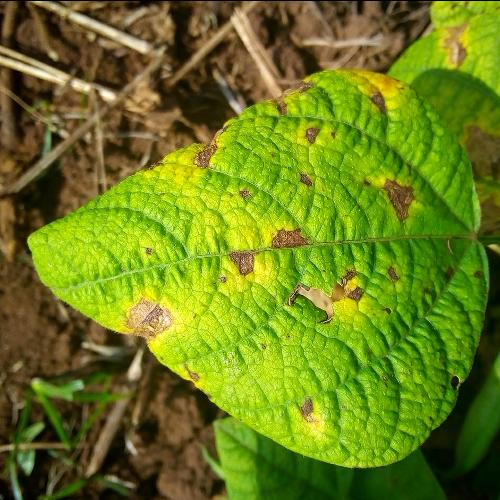hawar: (104, 53, 449, 381)
